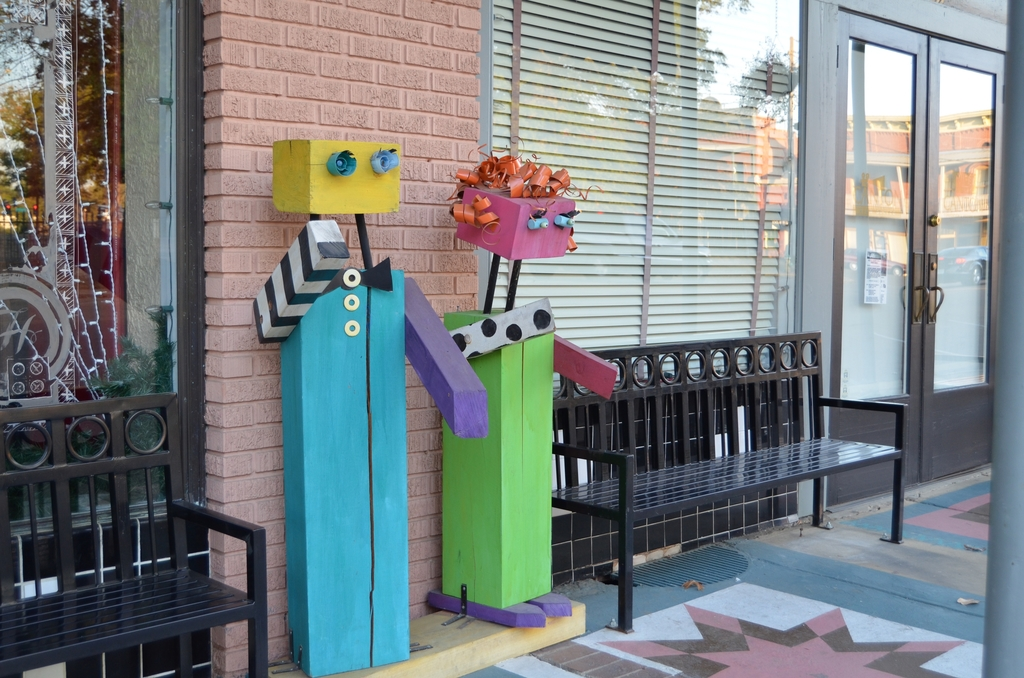door: (842, 24, 922, 489), (929, 46, 990, 443)
handle: (931, 279, 945, 324), (916, 279, 930, 323)
